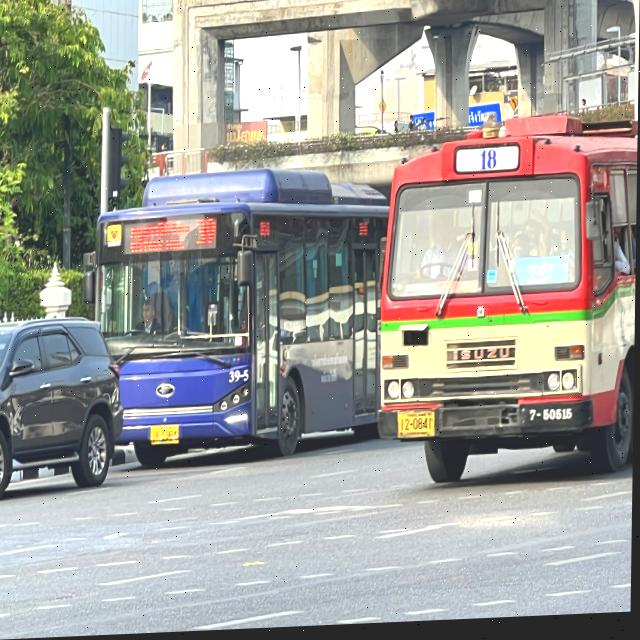BMTA-bus: (379, 120, 638, 493)
Bus-Line-Number: (462, 150, 519, 177), (194, 212, 221, 254)
Destination-Sign-Normal: (123, 221, 194, 259), (513, 260, 572, 291)
TSB-Bus: (83, 167, 390, 471)
